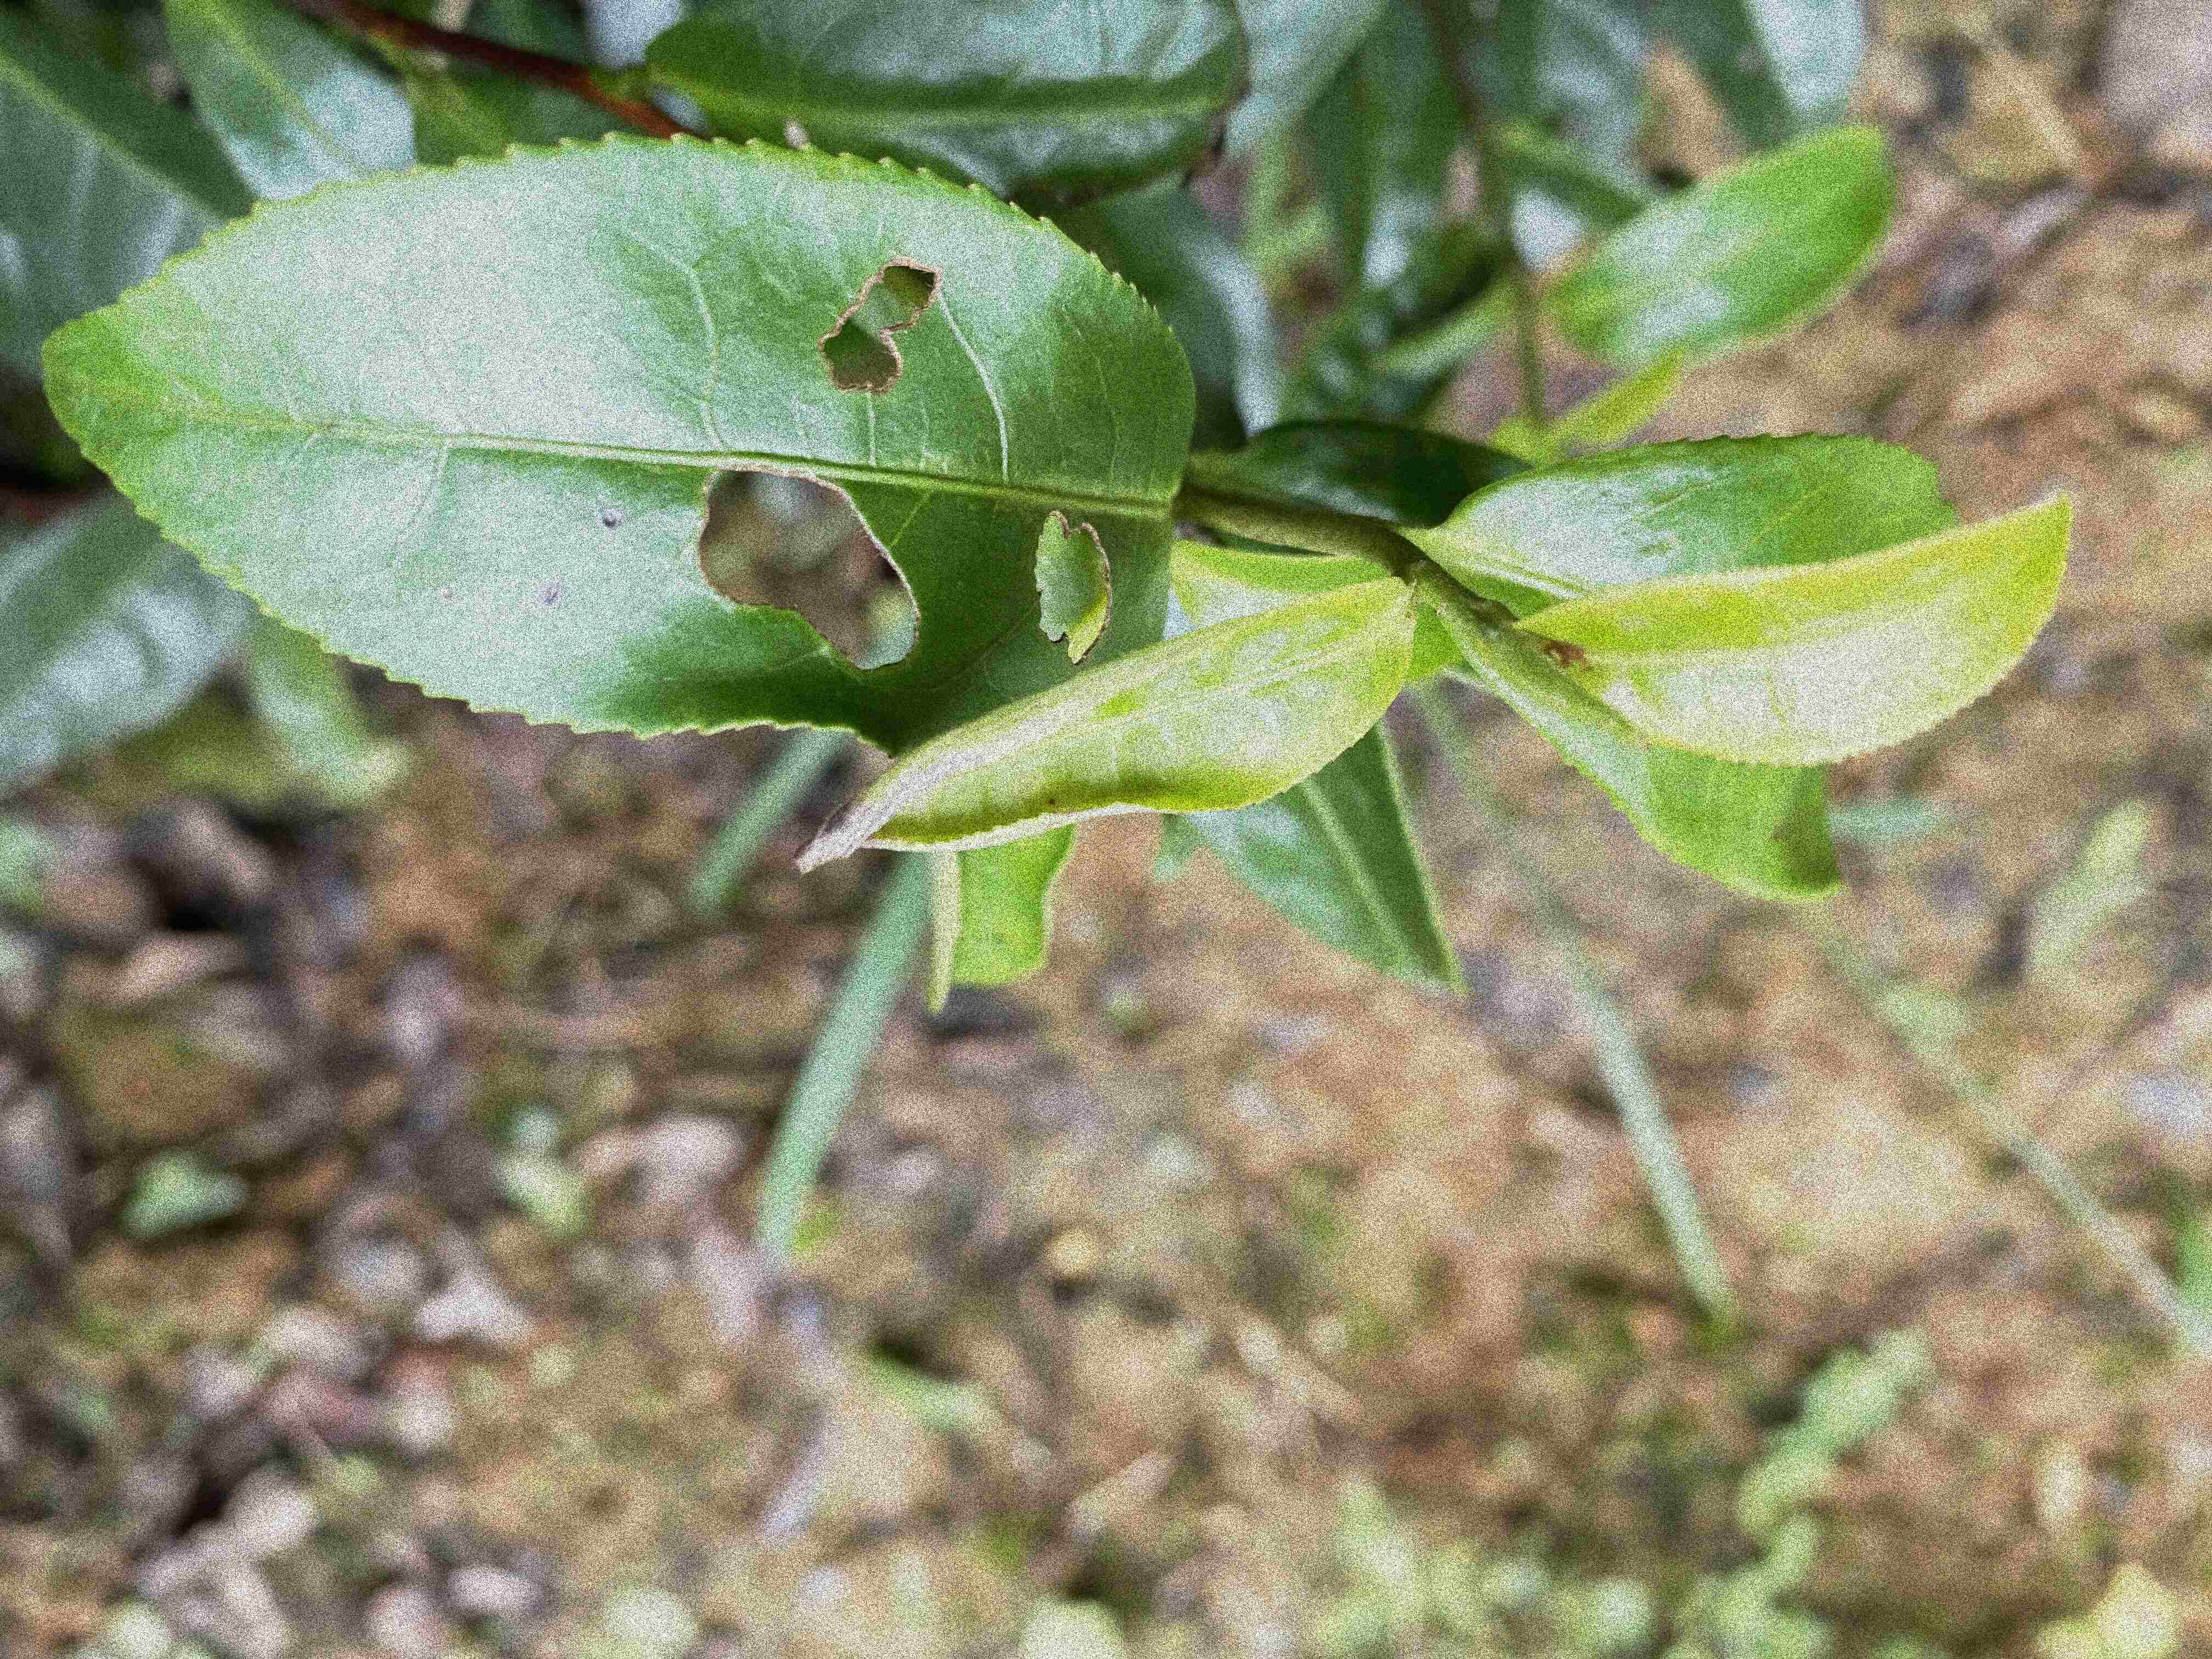chihuo_high: (40, 132, 1200, 760)
tanju_high: (791, 577, 1420, 875)
tanju_low: (1510, 493, 2076, 769)
